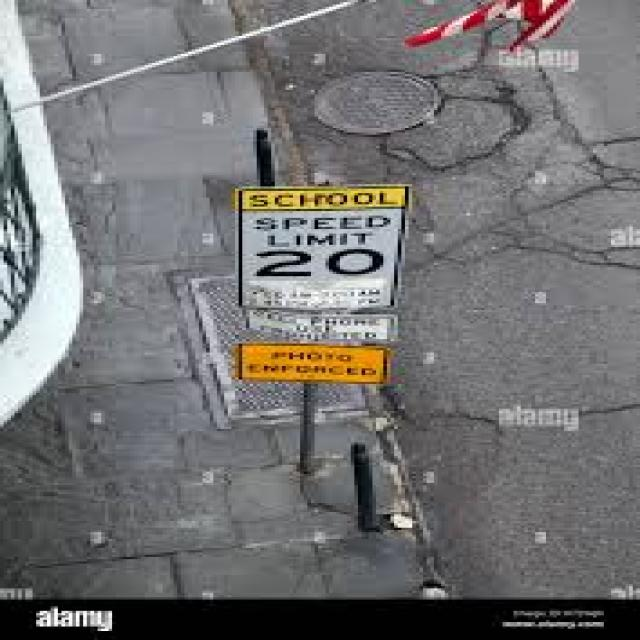speedLimit20: (235, 201, 401, 315)
